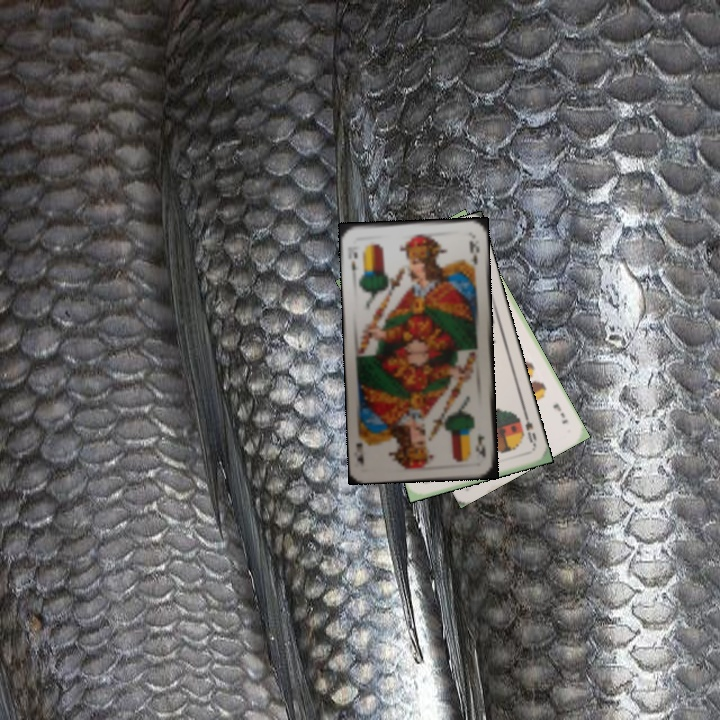E7: (549, 399, 570, 426)
EK: (472, 429, 488, 460), (347, 248, 361, 279)
SO: (520, 410, 539, 450)
